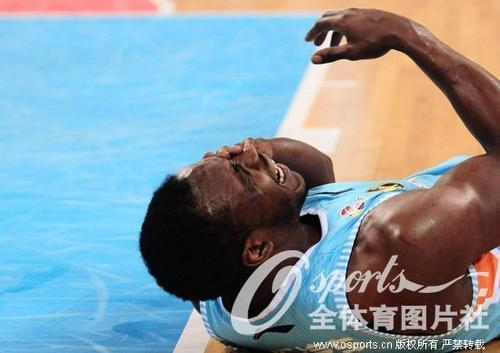Fall-Detected: (132, 0, 486, 353)
